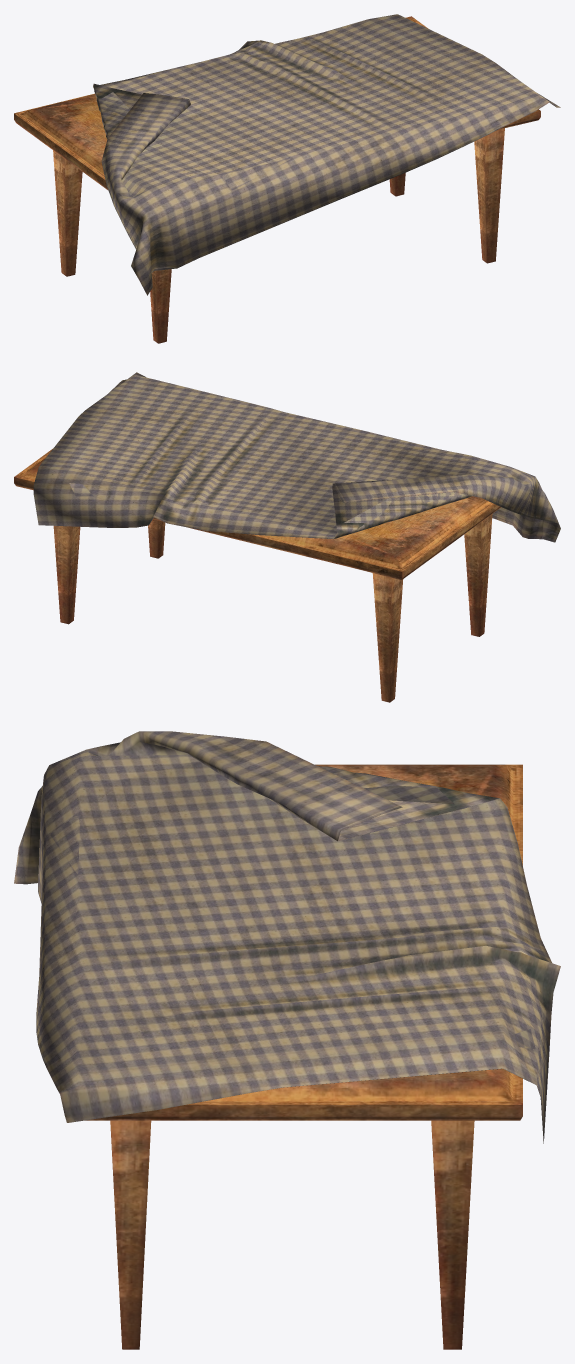
File: dining_table.glb
3 renders of one model, top to bottom at view 1: azimuth 30°, elevation 25°; view 2: azimuth 150°, elevation 25°; view 3: azimuth 270°, elevation 25°, orthographic. The views are drawn at different scales.
Visible parts, largest first — view 1: dining_table_cloth, dining_table; view 2: dining_table_cloth, dining_table; view 3: dining_table_cloth, dining_table.
Part boxes in pixels (bbox=[...]): dining_table_cloth: bbox=[93, 14, 560, 295]; dining_table: bbox=[14, 16, 540, 343]; dining_table_cloth: bbox=[33, 372, 560, 542]; dining_table: bbox=[14, 449, 501, 702]; dining_table_cloth: bbox=[14, 731, 560, 1143]; dining_table: bbox=[85, 764, 522, 1349].
Size of the model in its own units: 2.26 by 0.877 by 1.39.
Materials: 1 (1 with a texture image).
